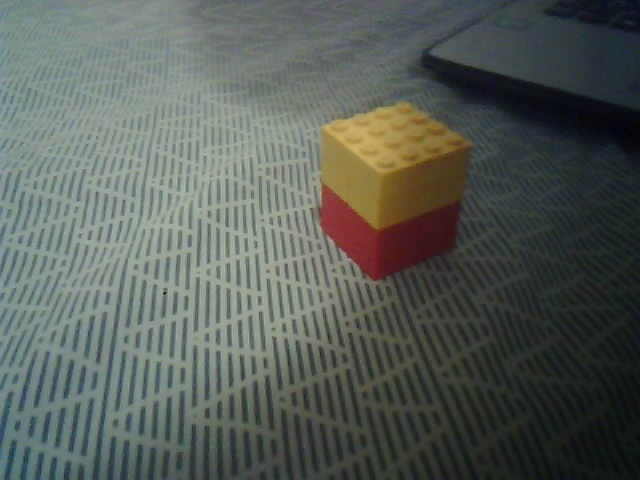lego: (318, 98, 474, 281)
